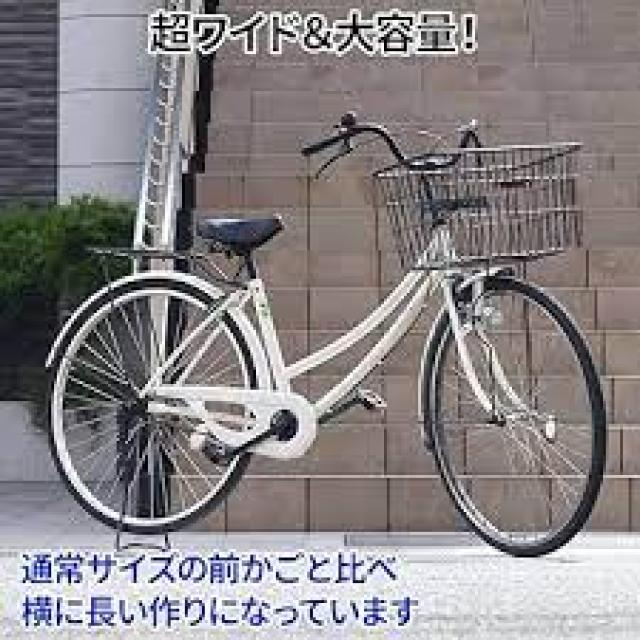basket: (370, 144, 582, 273)
